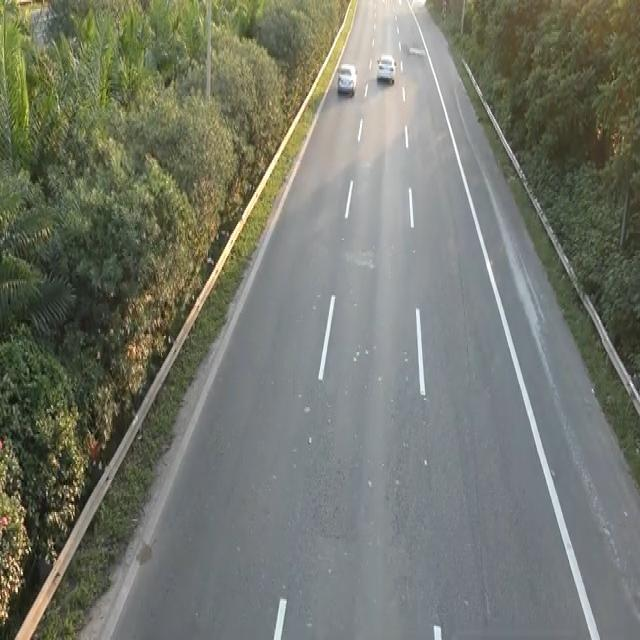bus: (373, 50, 399, 90), (336, 60, 358, 96)
